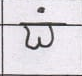anusvara: (38, 7, 45, 13)
